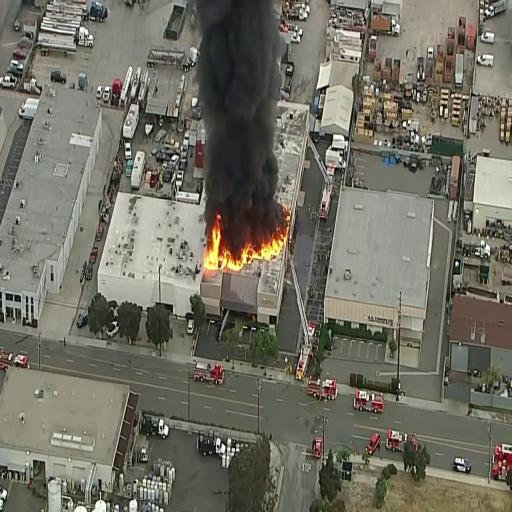fire: (202, 215, 223, 276)
smoke: (200, 0, 276, 222)
